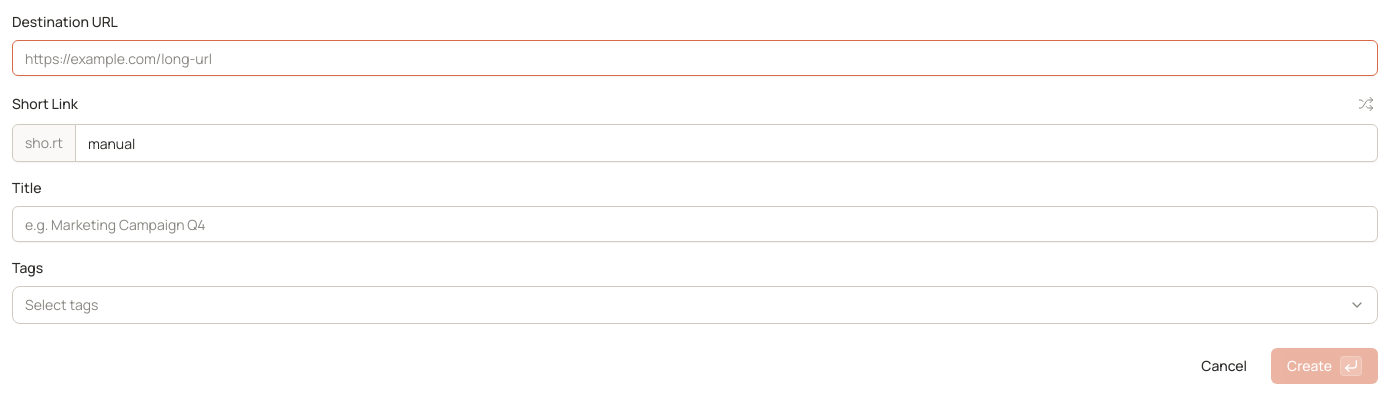
Test: LinkFormFields › short key generation › replaces the current key when the shuffle button is pressed
What coordinates should you click on to do the following:
click the button named "Generate a random short link"
I would click on:
 (1366, 104)
Its box is [1354, 92, 1378, 116].
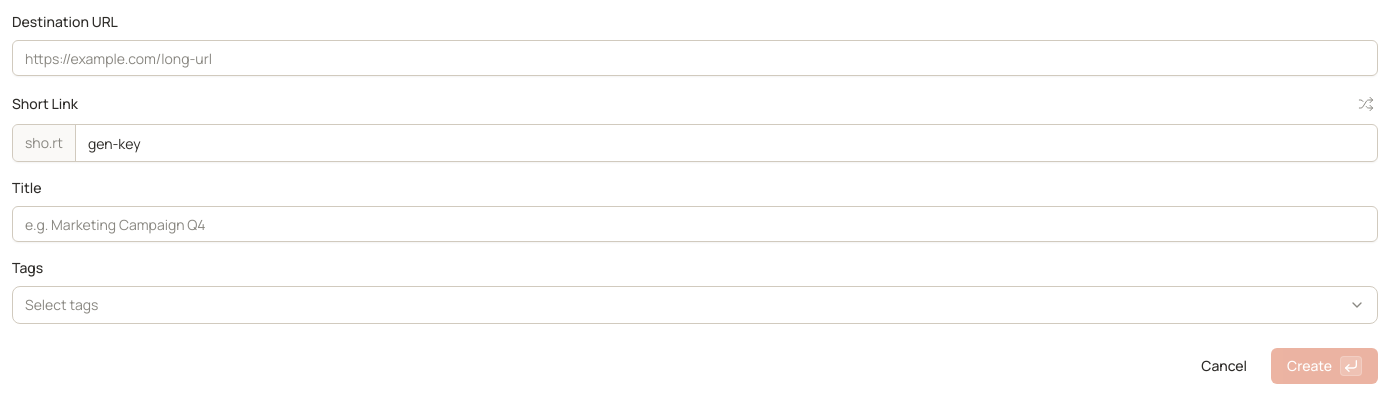
Expected: the field labelled "Short Link" holds "gen-key", [76, 125, 1377, 161]
